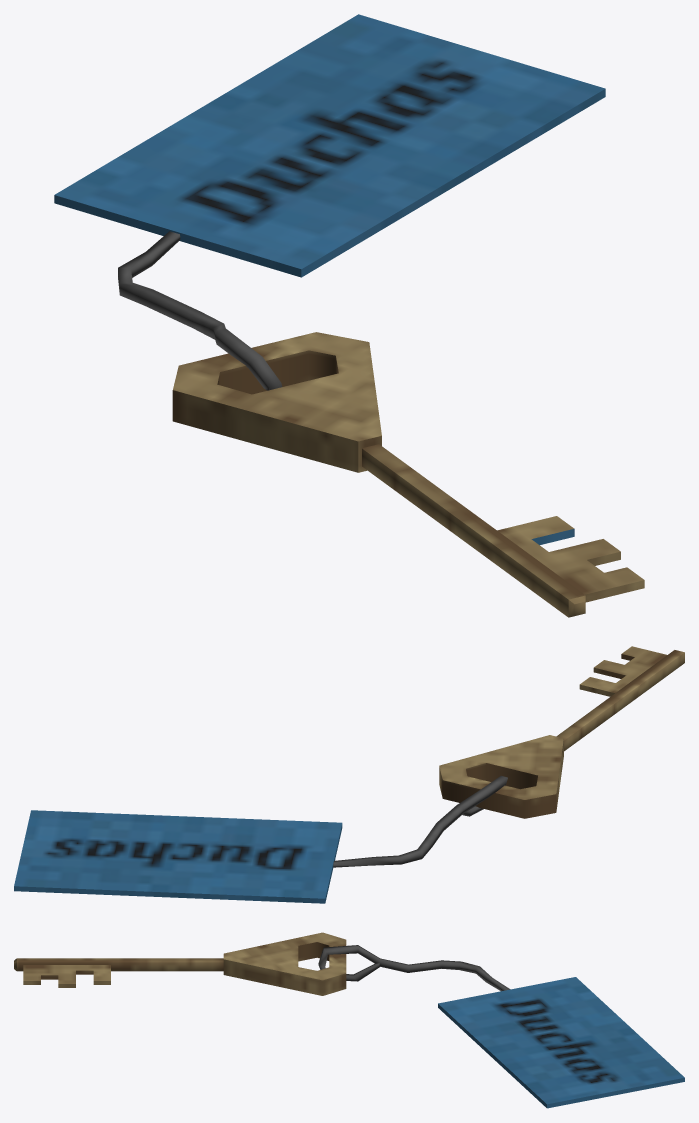
File: key_01.fbx
3 views of the same model, one above another, from view 1: azimuth 30°, elevation 25°; view 2: azimuth 150°, elevation 25°; view 3: azimuth 270°, elevation 25° (orthographic). The views are drawn at different scales.
Visible parts, largest first — view 1: key_01; view 2: key_01; view 3: key_01.
Boxes of the visible parts, x1,y1,x2,y2 form: key_01: (54, 14, 644, 617); key_01: (14, 646, 684, 903); key_01: (14, 932, 684, 1108).
Size of the model in its own units: 19.57 by 1.53 by 34.6.
1 material, 1 textured.
